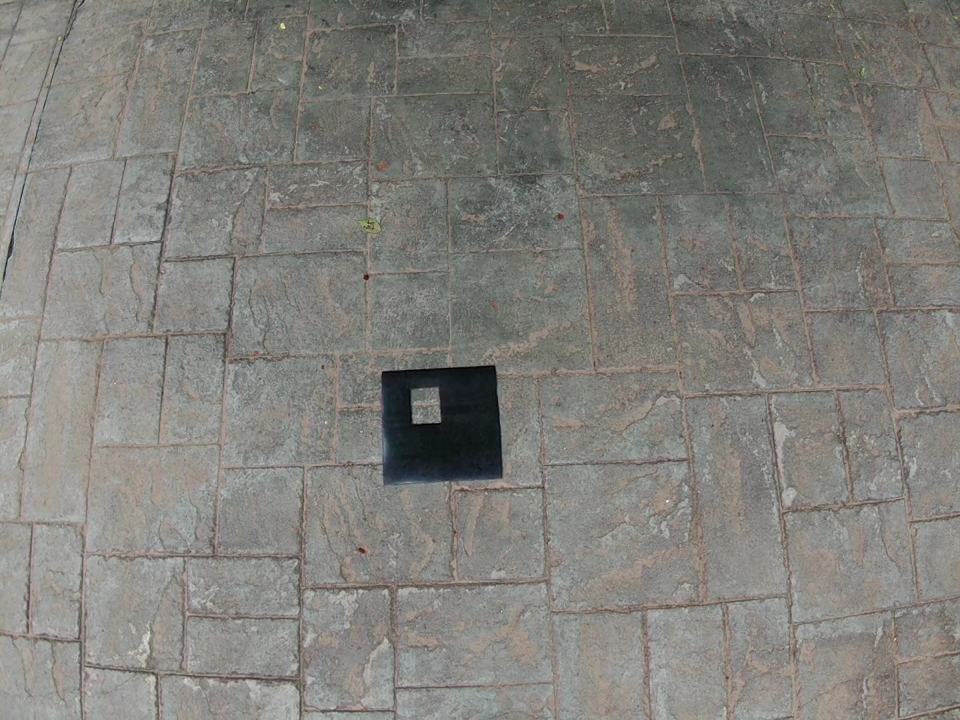qrcode: (382, 365, 502, 483)
